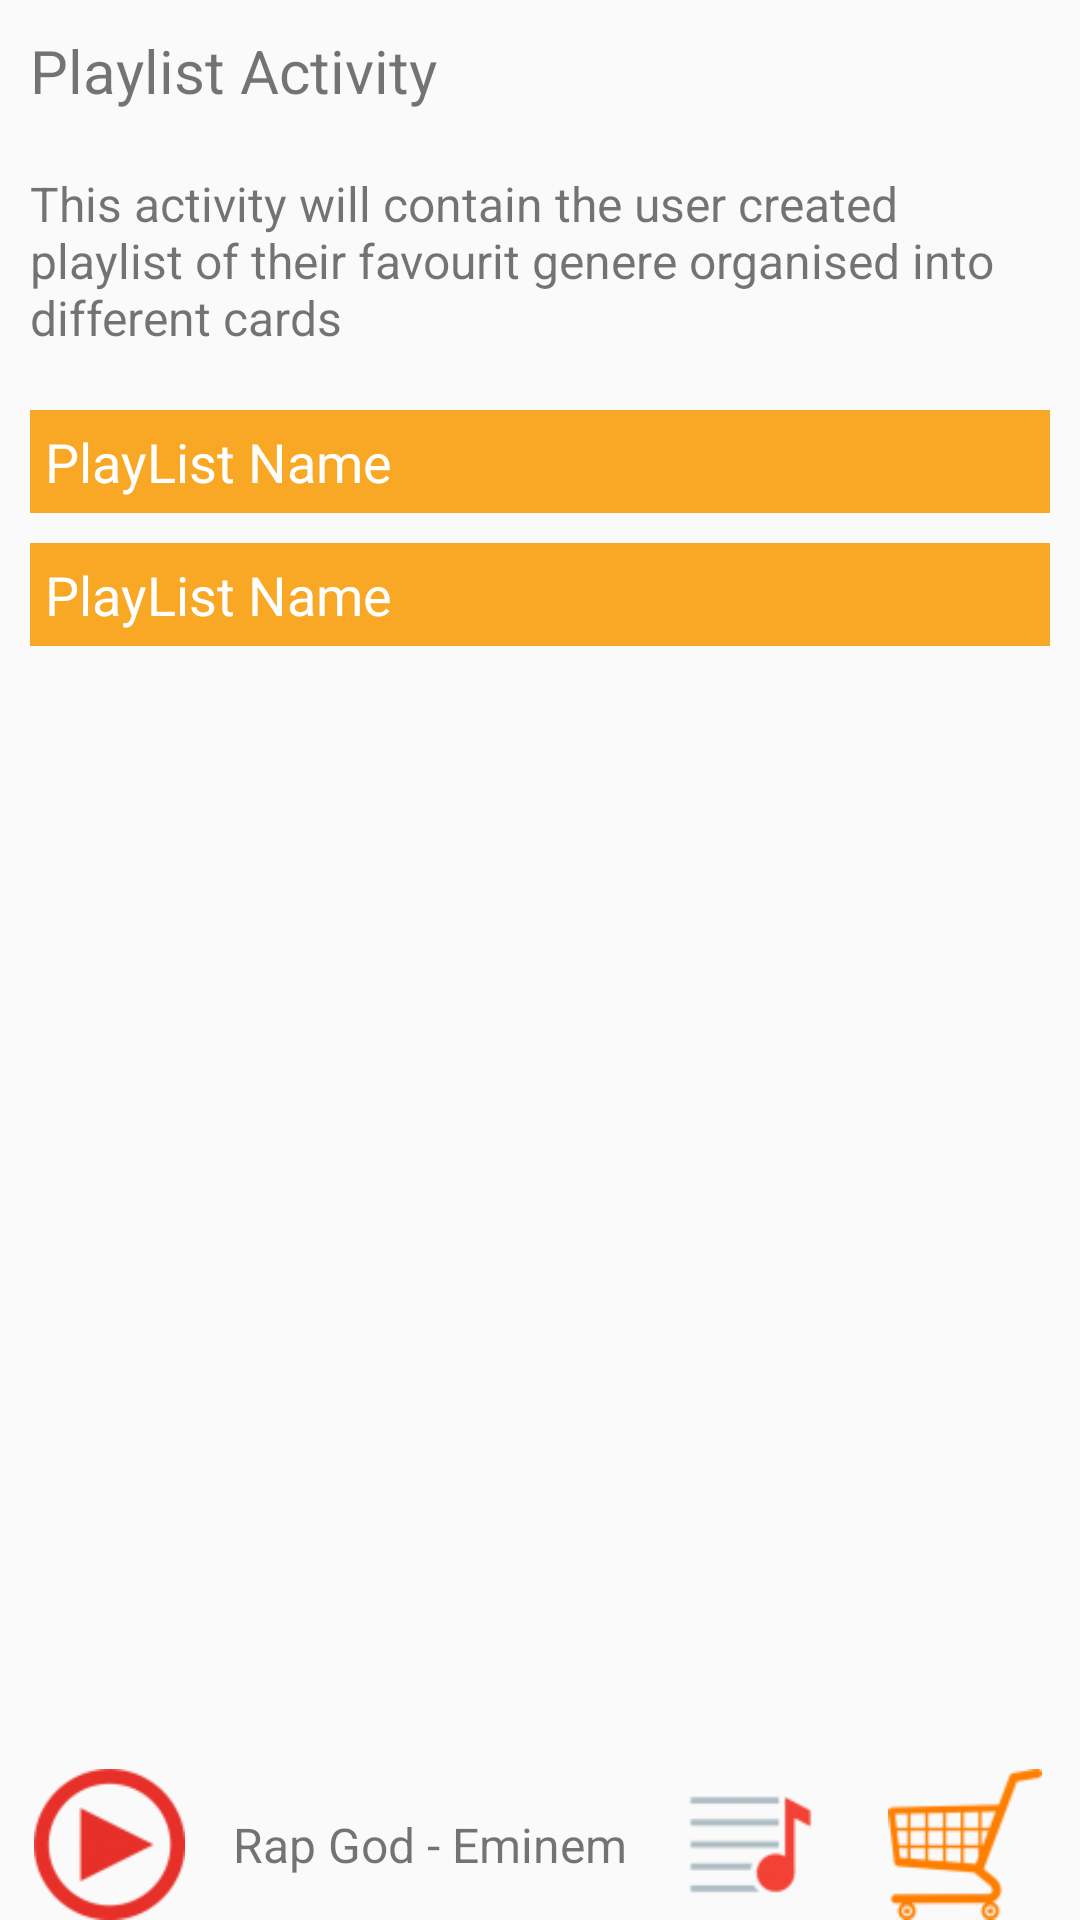

Icons on this 1080×1920 Android screen, each with its box as (x1, y1, x2, y2):
cart: (888, 1769, 1042, 1920)
iconplay: (34, 1769, 185, 1920)
playlist: (690, 1797, 812, 1893)
